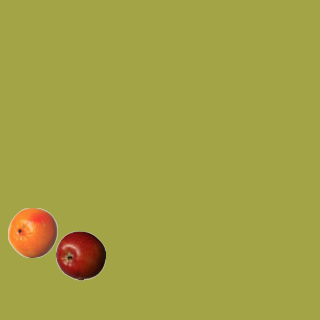Apple Braeburn: (55, 230, 105, 280)
Grapefruit Pink: (7, 207, 57, 257)
